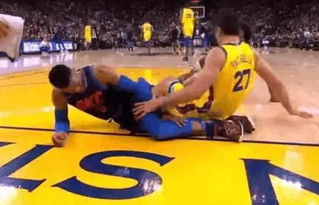10+: (1, 1, 317, 62)
down: (134, 10, 314, 135), (40, 62, 244, 148)
